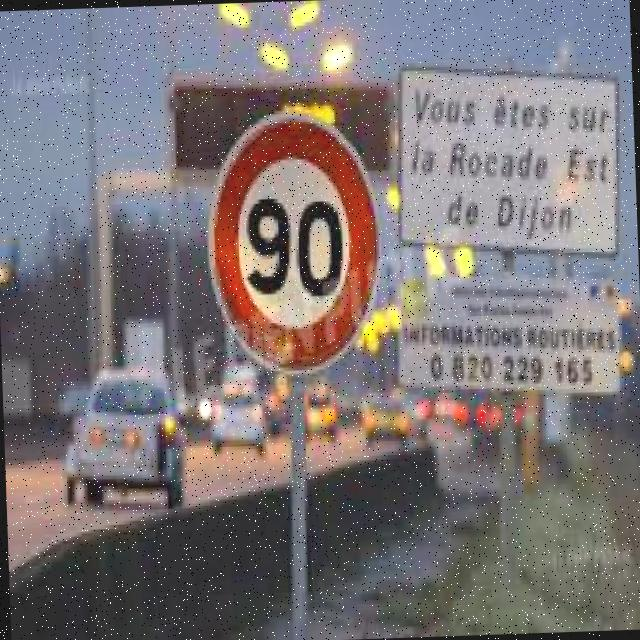Ograniczenie predkosci do 90: (215, 112, 382, 368)
